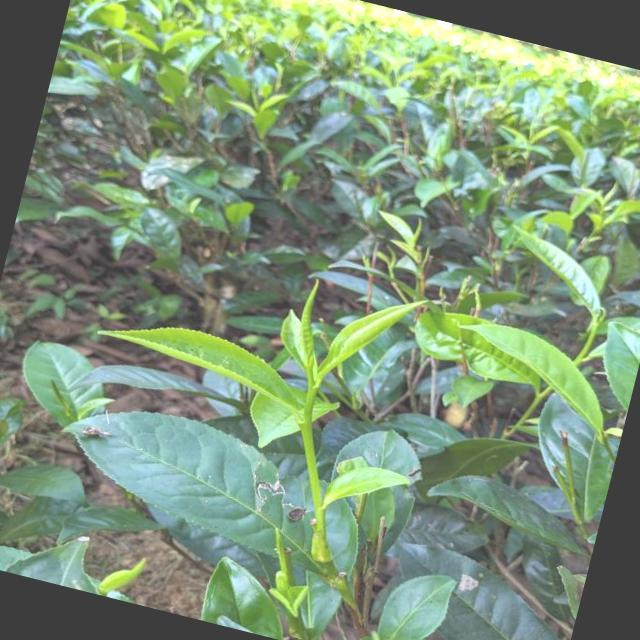Stem: (573, 355, 582, 364), (308, 390, 317, 397)
